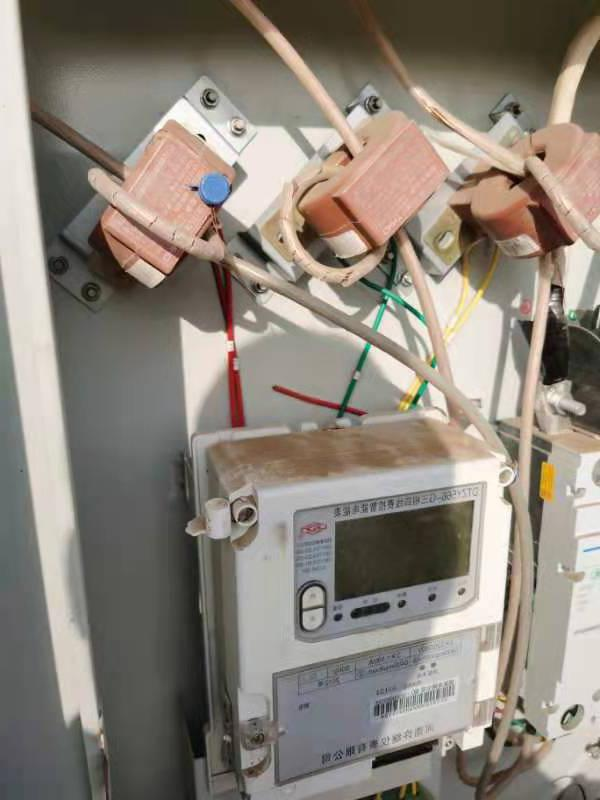digital: (227, 461, 510, 782)
